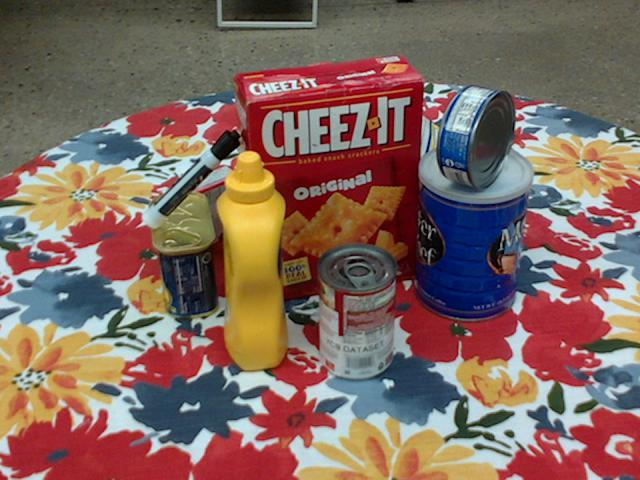cracker_box: (234, 55, 425, 302)
gelatin_box: (159, 165, 243, 259)
large_marker: (142, 129, 241, 228)
master_chef_can: (417, 142, 531, 323)
mug: (303, 122, 387, 220)
mustard_bottle: (217, 151, 286, 371)
potted_meat_can: (149, 192, 218, 319)
sugar_box: (357, 92, 511, 243)
tomato_soup_can: (316, 243, 396, 381)
tuna_fish_can: (439, 86, 515, 188)
